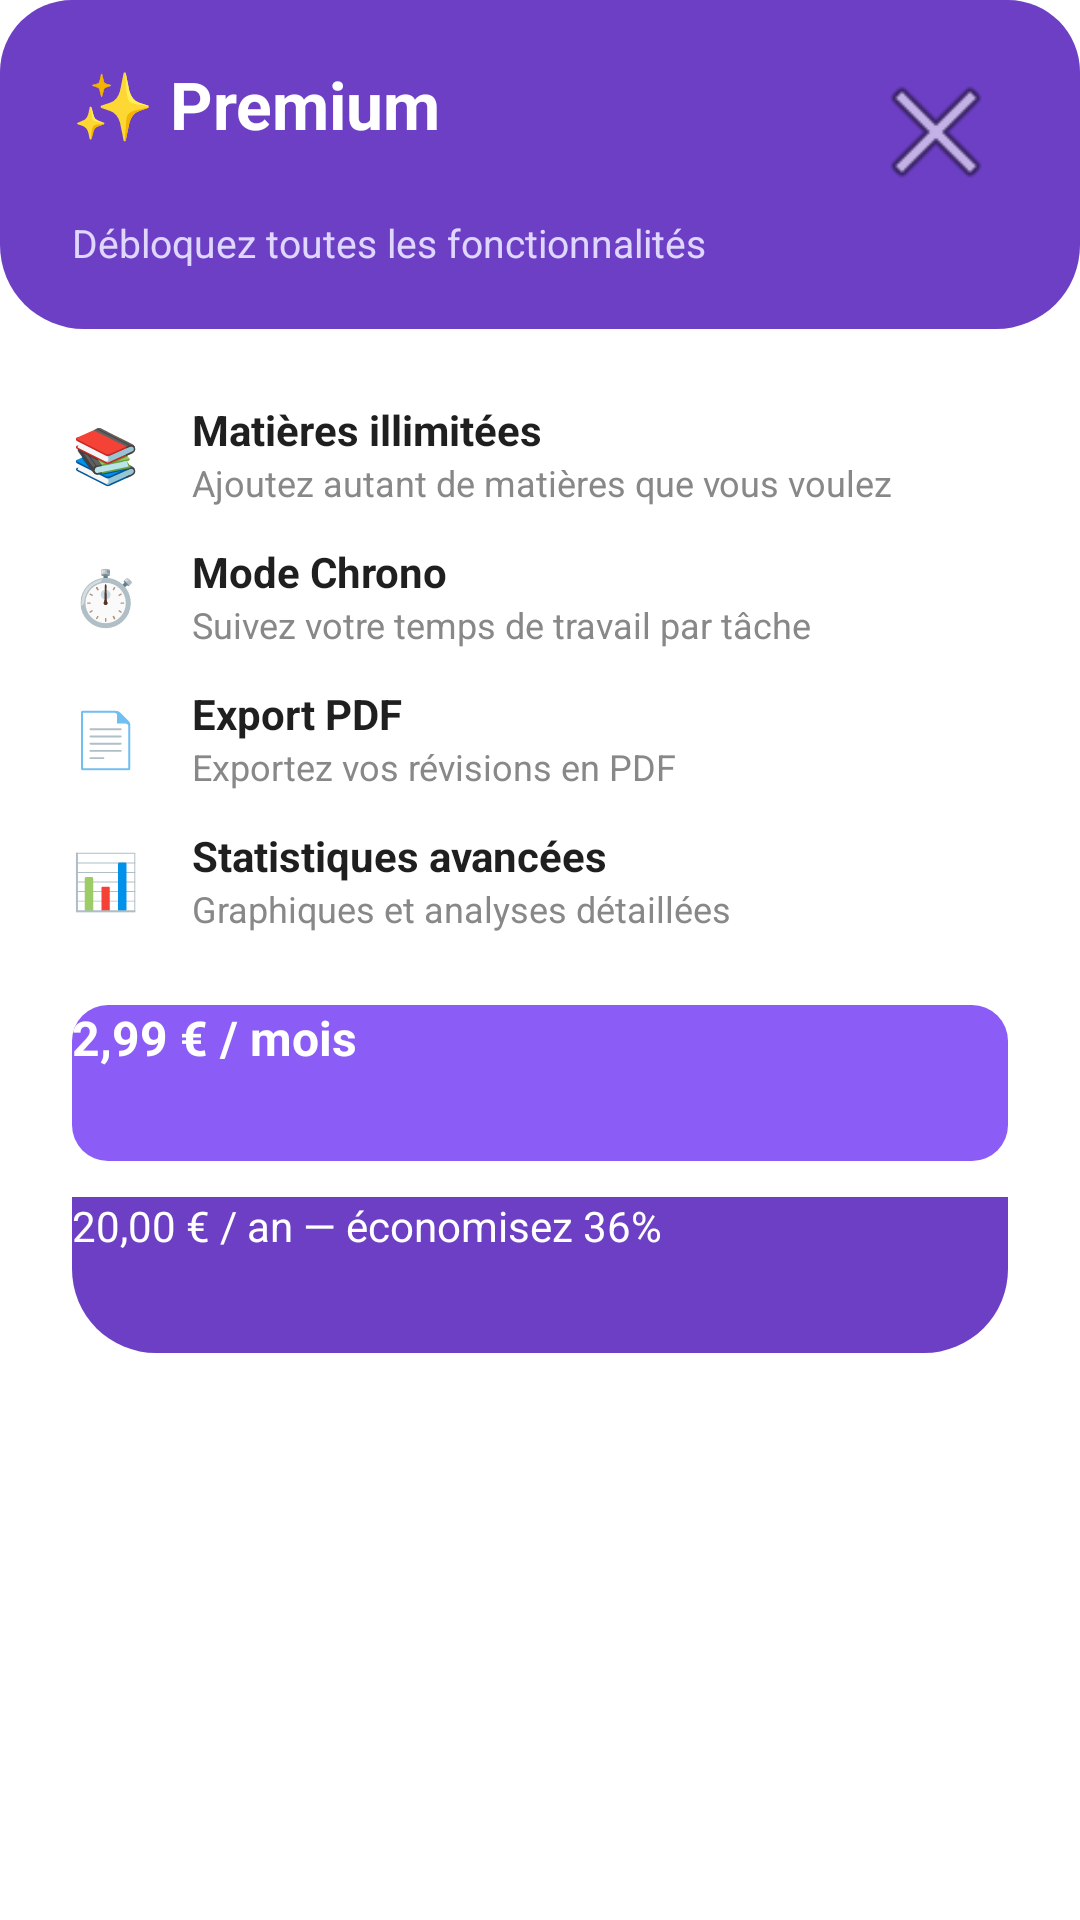

Screen size 1080px x 1920px. Icon name, then its box in pixels as (x1, y1, x2, y2):
Fermer: (891, 87, 981, 177)
